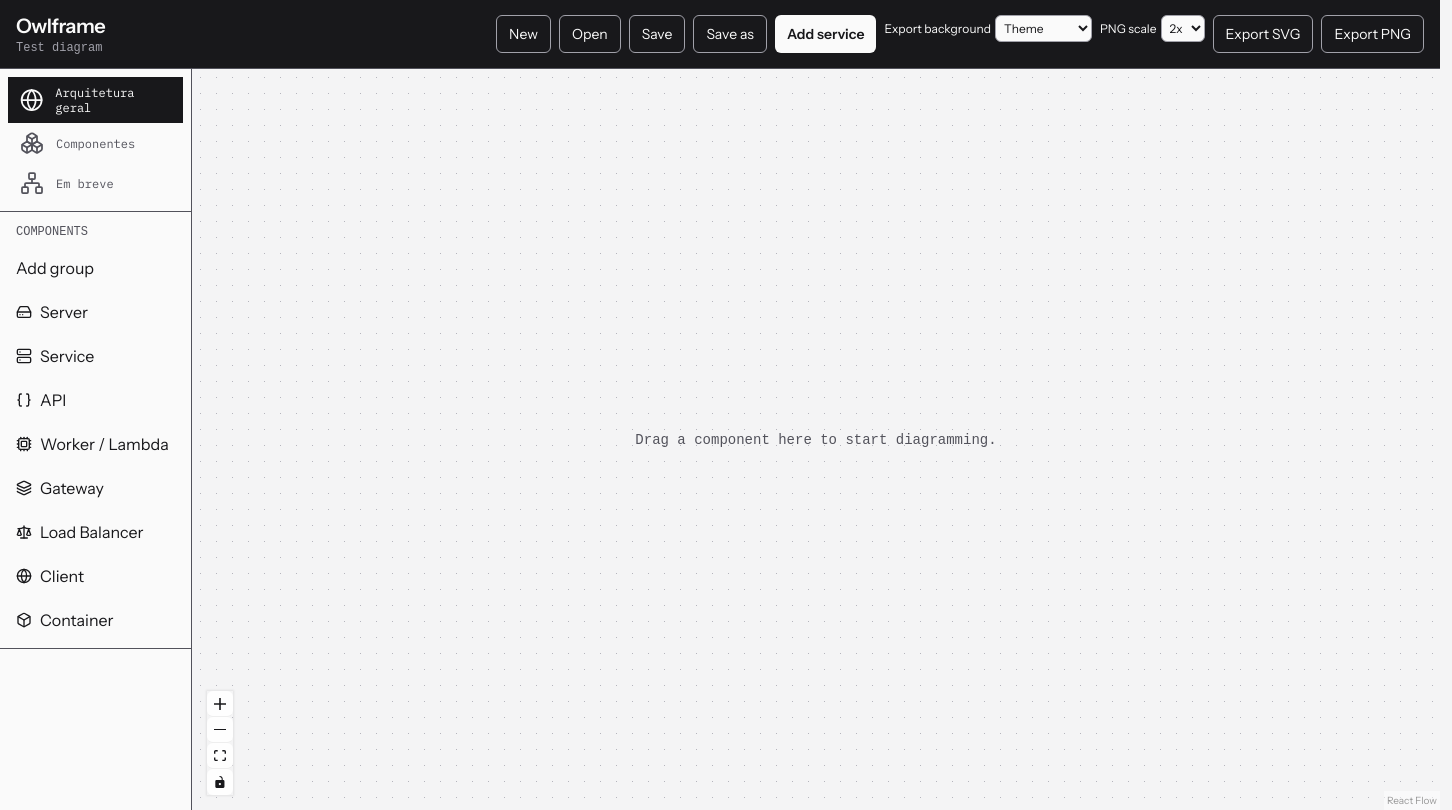
Test: App › shows feedback for an invalid connection
What coordinates should you click on to do the following:
click the button "Add service"
I would click on:
 (826, 34)
Its box is [775,15,876,53].
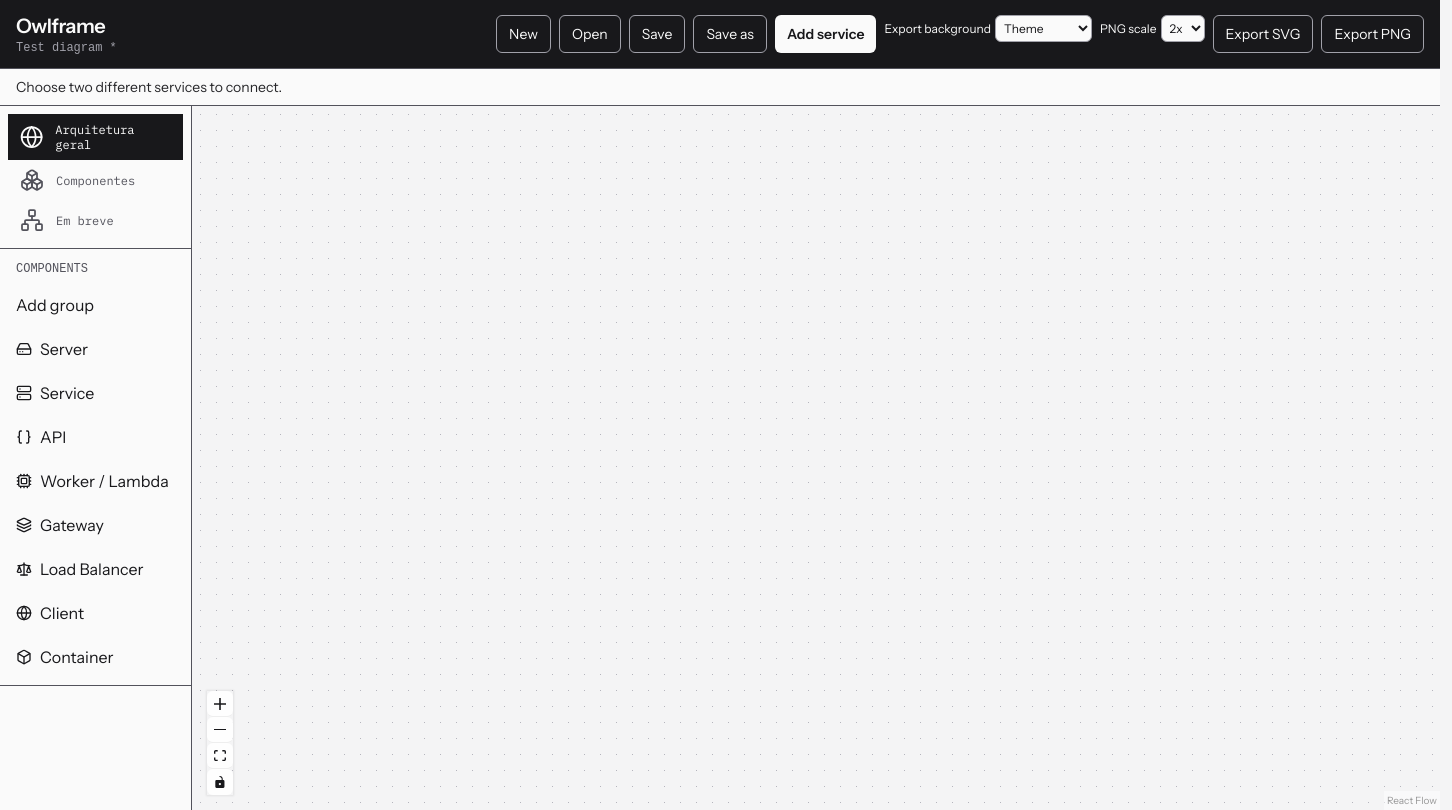
Expected: the message reads "Choose two different services to connect.", [16,78,282,96]
